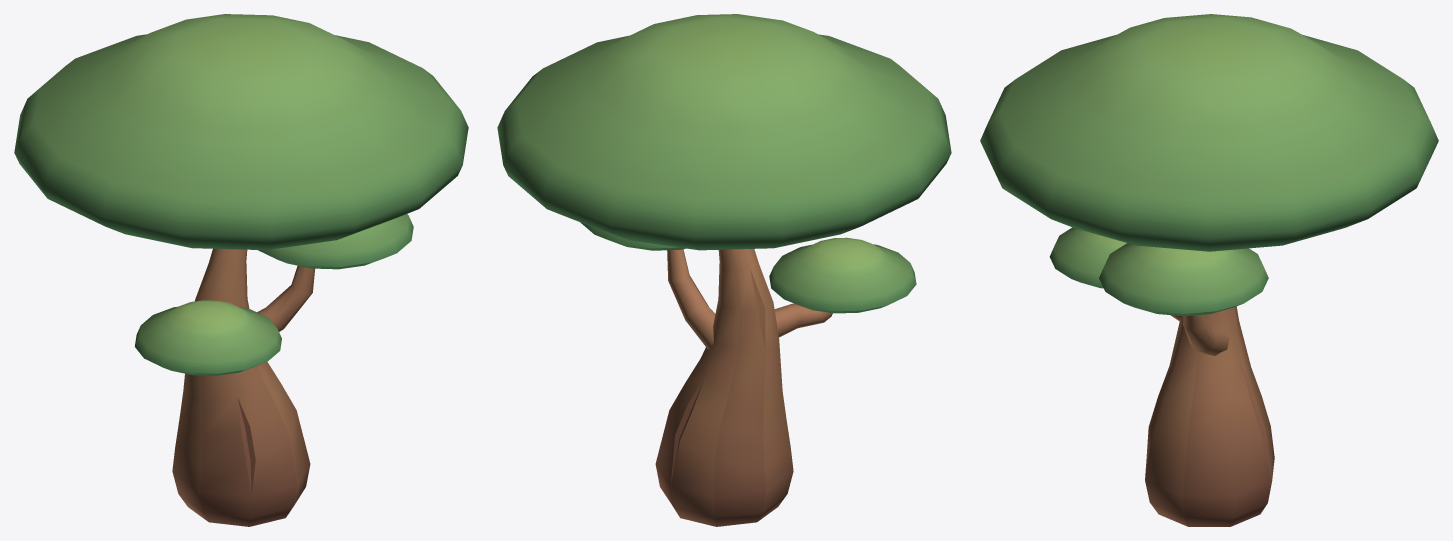
Rendered from tree_3_a-S4ZD6ajC.glb.
3 renders of one model, left to right at view 1: azimuth 30°, elevation 25°; view 2: azimuth 150°, elevation 25°; view 3: azimuth 270°, elevation 25°, orthographic.
Parts seen in each view (by area): view 1: Tree_3_A_Color1; view 2: Tree_3_A_Color1; view 3: Tree_3_A_Color1.
Boxes of the visible parts, left/top/right/bottom form: Tree_3_A_Color1: left=14, top=14, right=468, bottom=526; Tree_3_A_Color1: left=497, top=14, right=951, bottom=526; Tree_3_A_Color1: left=980, top=14, right=1438, bottom=526.
Bounding box in the file's own units: 4.02 × 4.56 × 4.02.
Materials: 1 (1 with a texture image).
